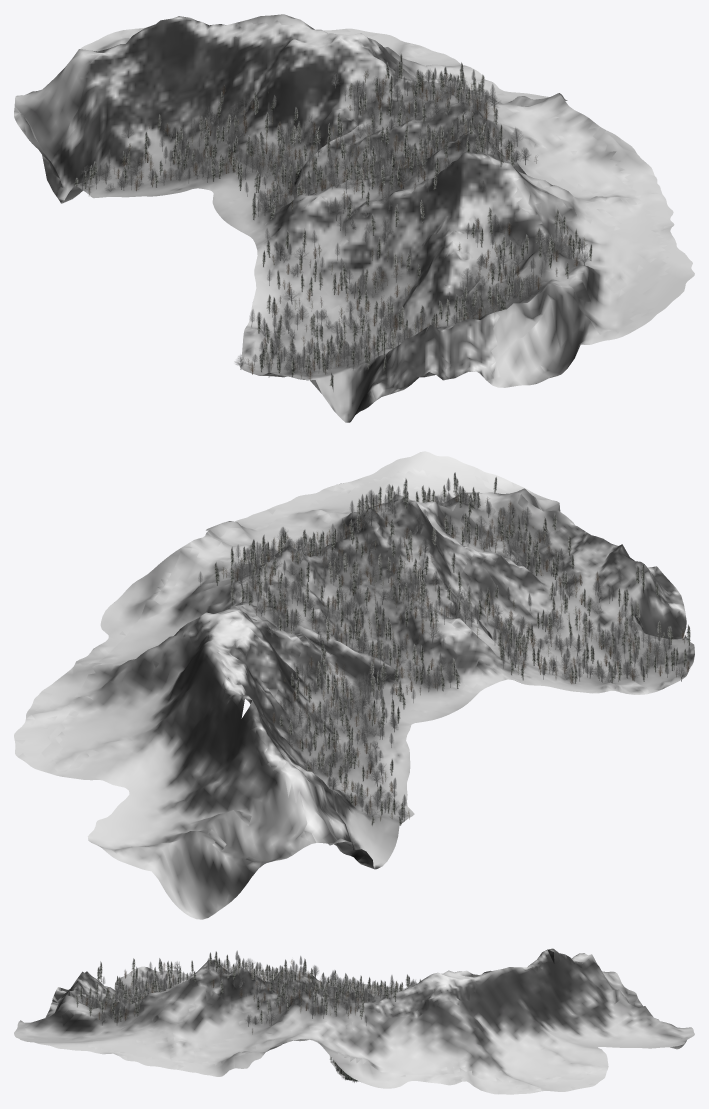
The model's file is snowy_mountain_scene.glb.
3 views of the same model, one above another, from view 1: azimuth 30°, elevation 25°; view 2: azimuth 150°, elevation 25°; view 3: azimuth 270°, elevation 25° (orthographic). The views are drawn at different scales.
Parts seen in each view (by area): view 1: SnowyMountainMassif, SnowyMountainForest; view 2: SnowyMountainMassif, SnowyMountainForest; view 3: SnowyMountainMassif, SnowyMountainForest.
Part boxes in pixels (box(x1,y1,x2,y2)): SnowyMountainMassif: box(14, 14, 694, 422); SnowyMountainForest: box(74, 53, 592, 390); SnowyMountainMassif: box(14, 451, 694, 919); SnowyMountainForest: box(198, 472, 691, 844); SnowyMountainMassif: box(14, 948, 694, 1094); SnowyMountainForest: box(76, 950, 421, 1034).
Bounding box in the file's own units: 543 × 217 × 955.
11 materials, 11 textured.
